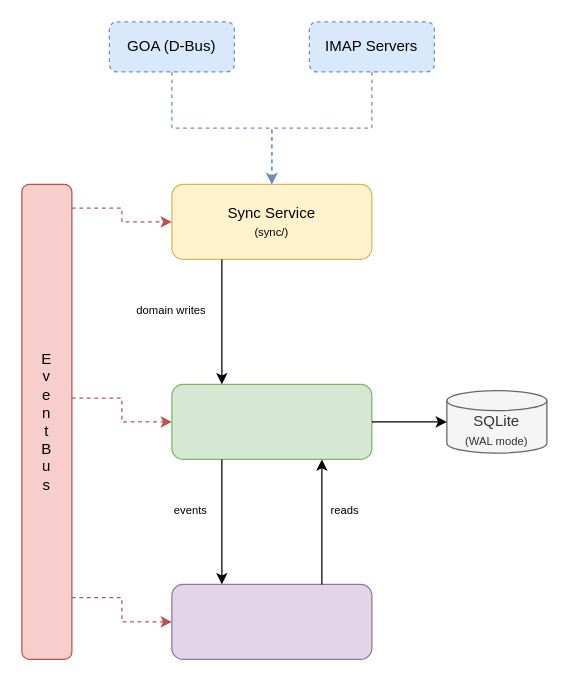
Some shapes in this 569 by 681 pixel diagram are drawn without their labels. The shapes that lost their labels are listed below. From the top down, each one's box as (x1, y1, x2, y2) in pixels, then its label:
(171, 383, 372, 459): Mail Engine (engine/)
(171, 583, 372, 659): GNOME / GTK (ui/)
